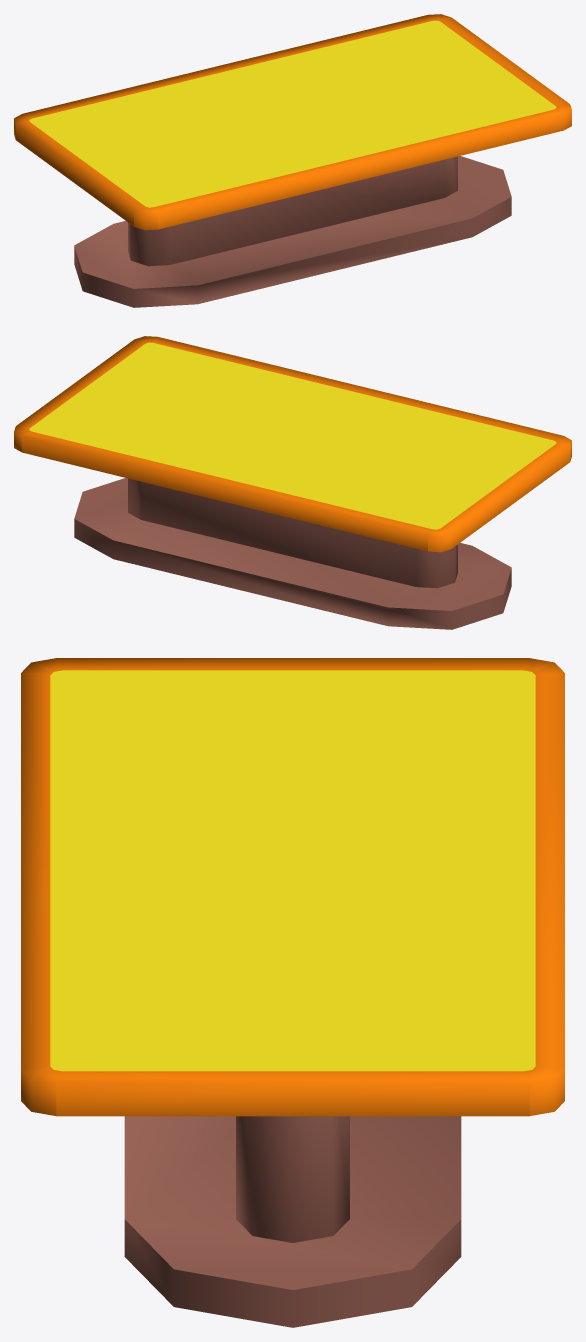
Rendered from TableC2_geo.fbx.
3 views of the same model, one above another, from view 1: azimuth 30°, elevation 25°; view 2: azimuth 150°, elevation 25°; view 3: azimuth 270°, elevation 25° (orthographic). The views are drawn at different scales.
Visible parts, largest first — view 1: TableC2_geo; view 2: TableC2_geo; view 3: TableC2_geo.
Boxes of the visible parts, <box> form: TableC2_geo: <box>14,14,571,307</box>; TableC2_geo: <box>14,336,571,629</box>; TableC2_geo: <box>21,658,564,1327</box>.
Bounding box in the file's own units: 2.47 × 1.33 × 0.681.
